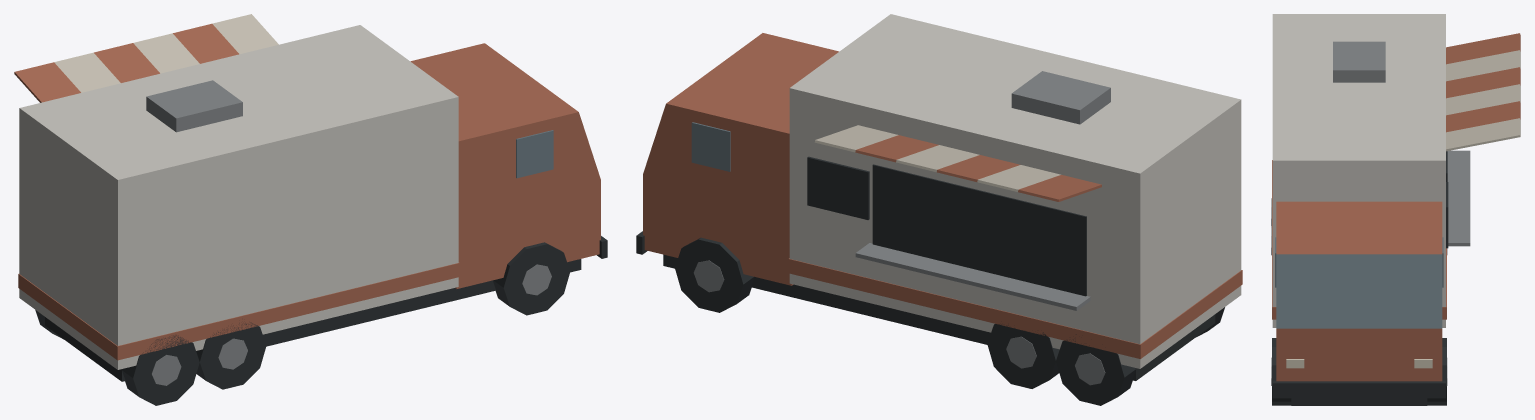
File: food-truck-CWkktETk.glb
3 renders of one model, left to right at view 1: azimuth 30°, elevation 25°; view 2: azimuth 150°, elevation 25°; view 3: azimuth 270°, elevation 25°, orthographic. The views are drawn at different scales.
Visible parts, largest first — view 1: food-truck; view 2: food-truck; view 3: food-truck.
Boxes of the visible parts, left/top/right/bottom form: food-truck: left=14, top=14, right=607, bottom=405; food-truck: left=636, top=14, right=1242, bottom=405; food-truck: left=1271, top=14, right=1520, bottom=405.
Size of the model in its own units: 6.62 by 3.21 by 3.3.
